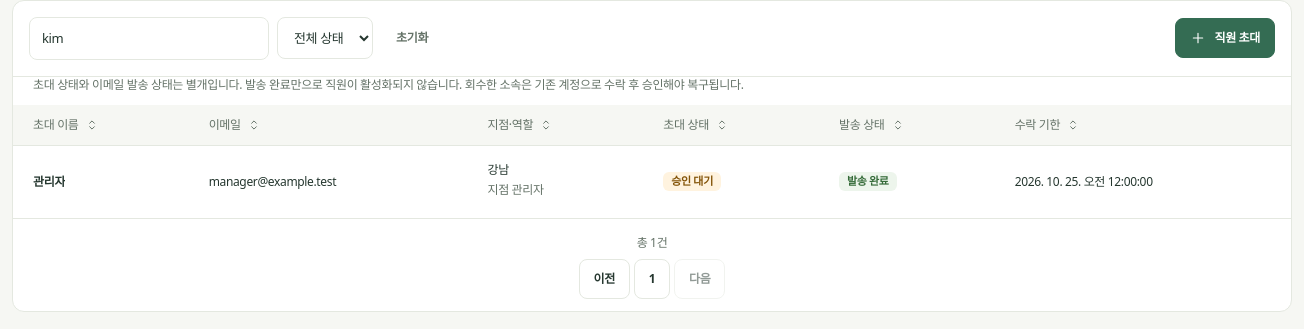
Test: resets only invitation search, page and status
Expected: the button "관리자" is shown, [33,174,65,190]
Select "승인 대기" in the dropdown named "초대 상태 필터": x=325, y=38 [277,17,373,59]
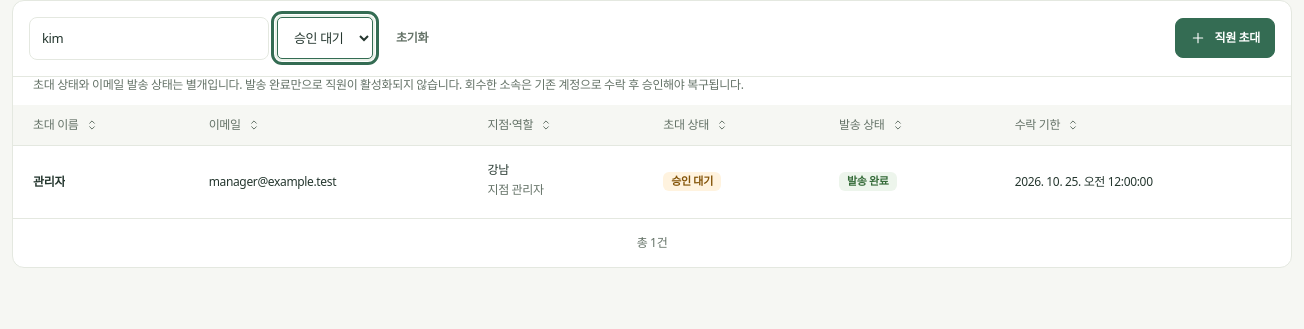
Click the button "초기화": x=412, y=38 [381,18,443,58]
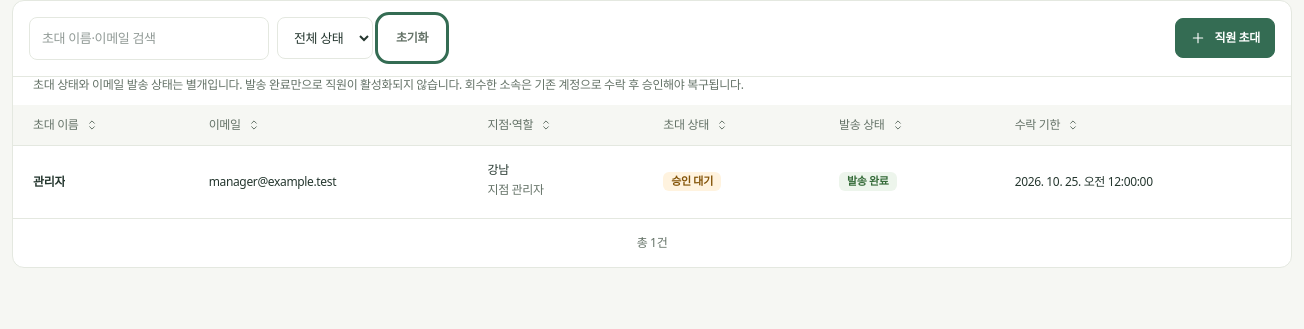
Now the search field labelled "초대 이름·이메일 검색" is empty, box [29,17,269,60]
